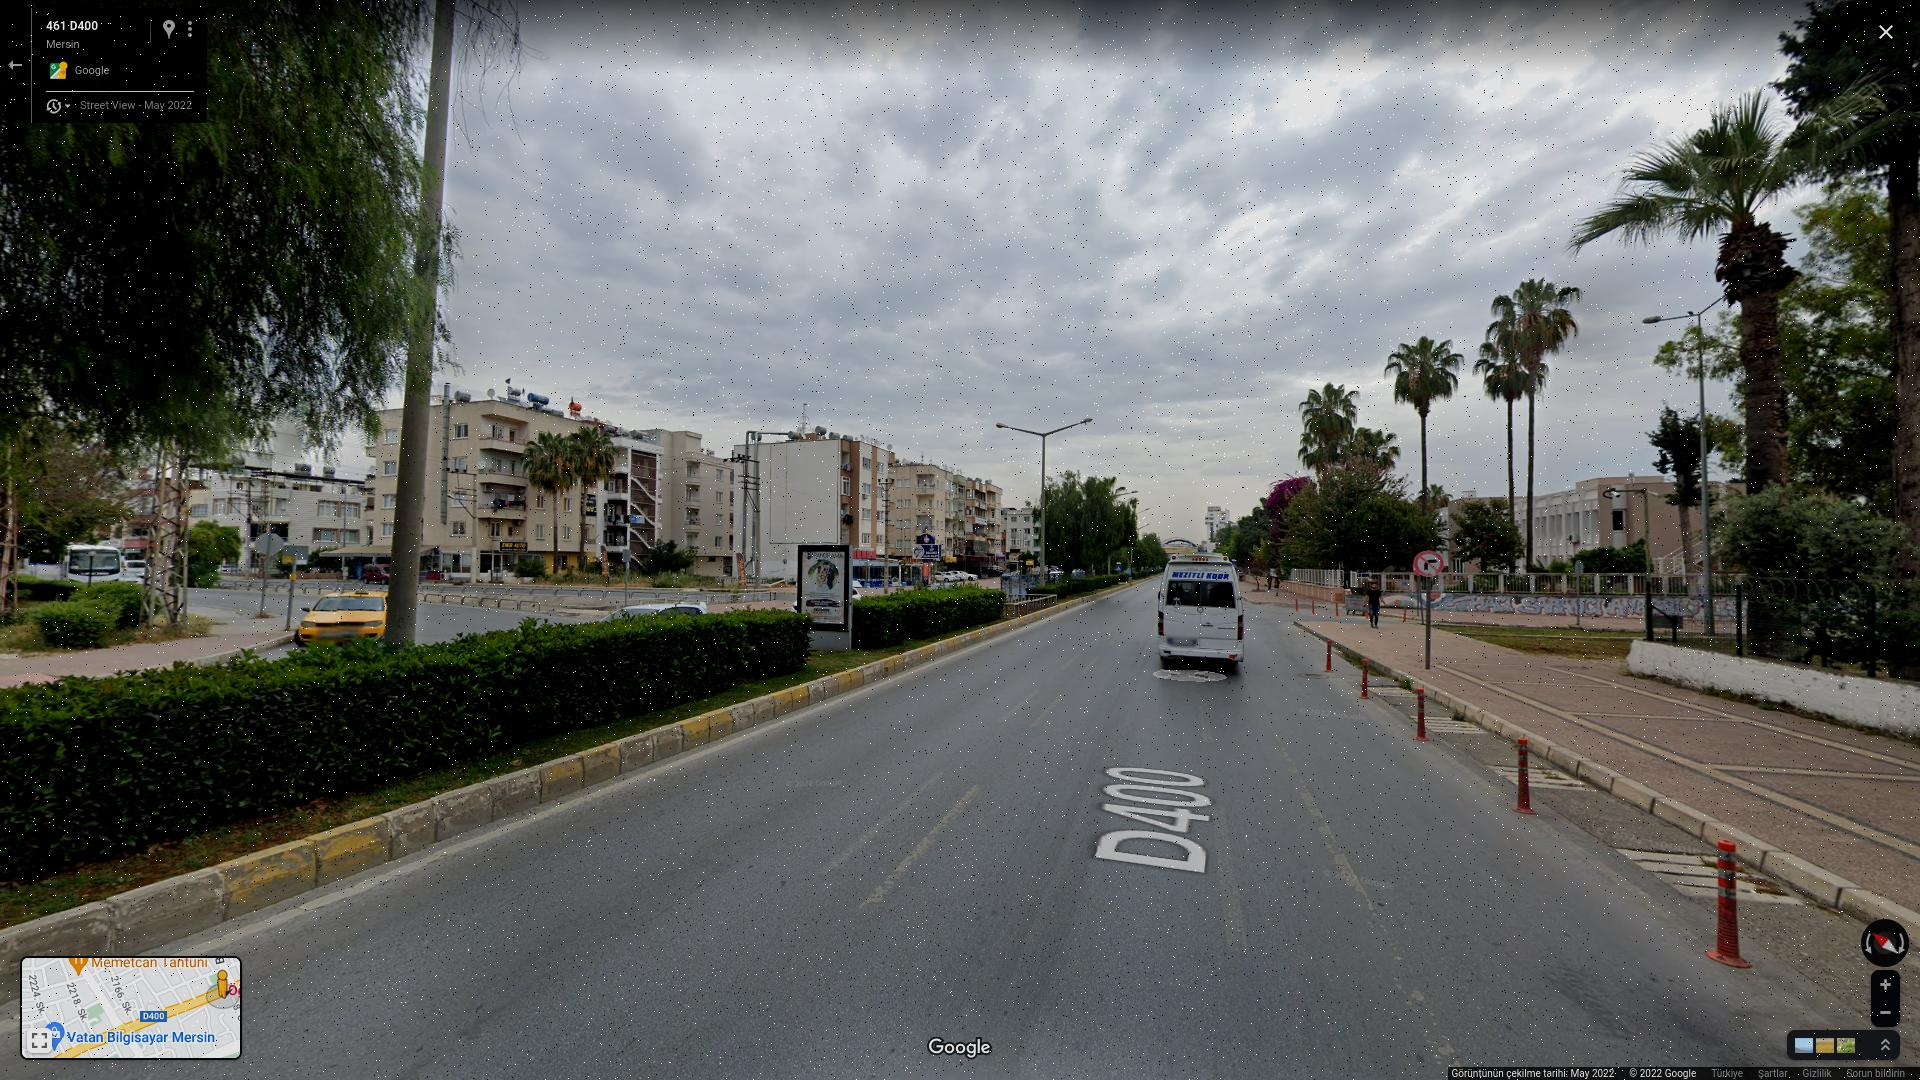rightturnsareforbidden: (1411, 551, 1443, 576)
